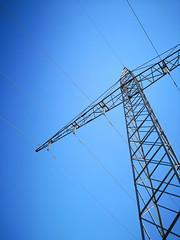power_tower: (30, 41, 180, 240)
